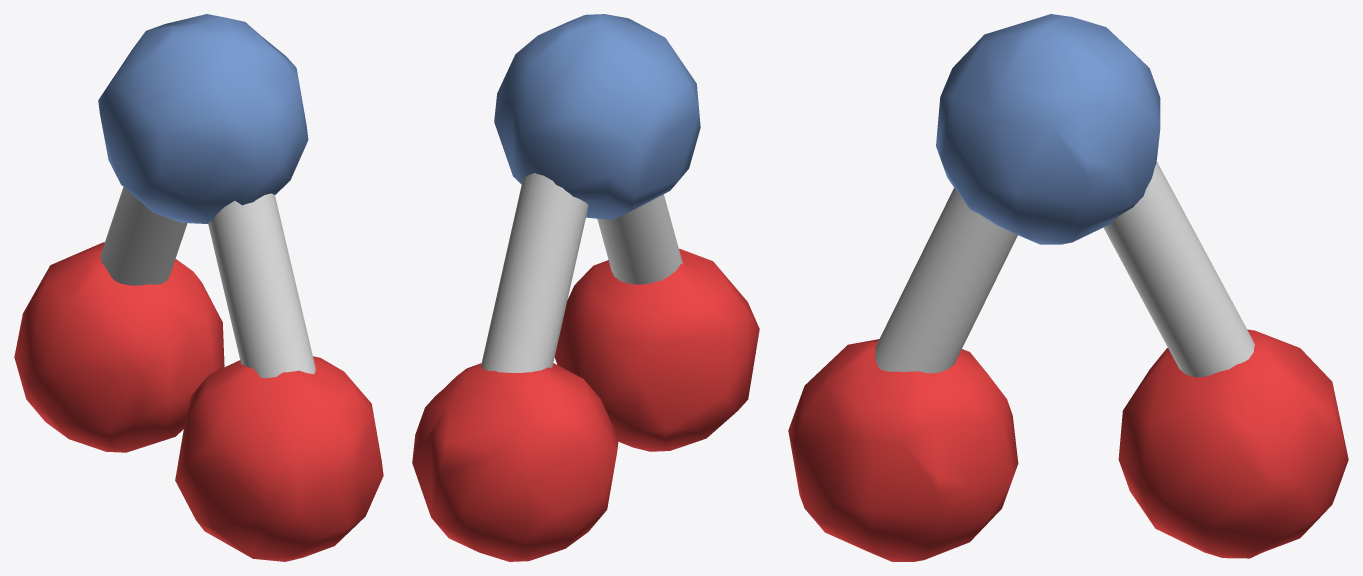
File: molecule1_combined.fbx
3 views of the same model, side by side, from view 1: azimuth 30°, elevation 25°; view 2: azimuth 150°, elevation 25°; view 3: azimuth 270°, elevation 25° (orthographic). The views are drawn at different scales.
Parts seen in each view (by area): view 1: pSphere4; view 2: pSphere4; view 3: pSphere4.
Part boxes in pixels (left/top/right/bottom): pSphere4: left=14, top=14, right=383, bottom=561; pSphere4: left=412, top=14, right=759, bottom=561; pSphere4: left=788, top=14, right=1348, bottom=561.
Size of the model in its own units: 3.53 by 8.7 by 8.42.
